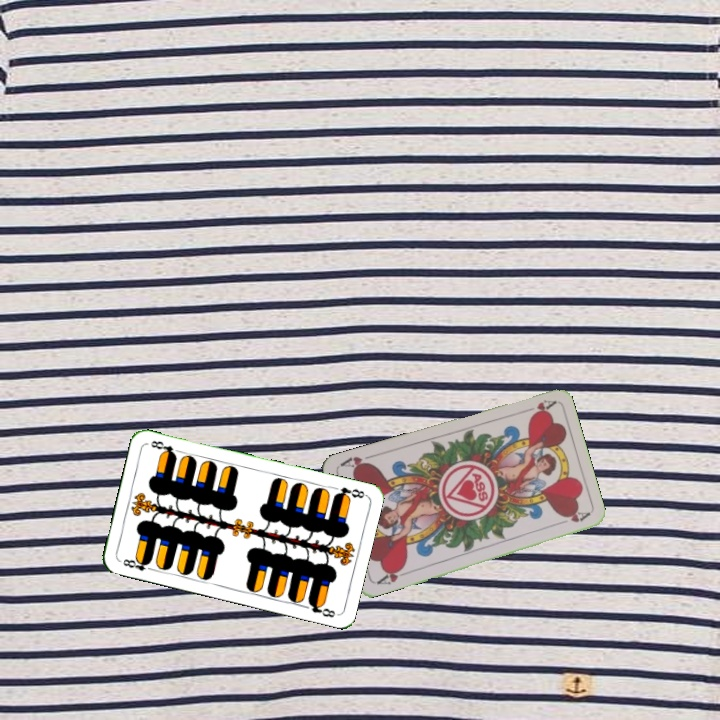E8: (116, 554, 156, 573), (330, 483, 368, 502)
HA: (372, 563, 411, 587), (526, 396, 557, 420)
